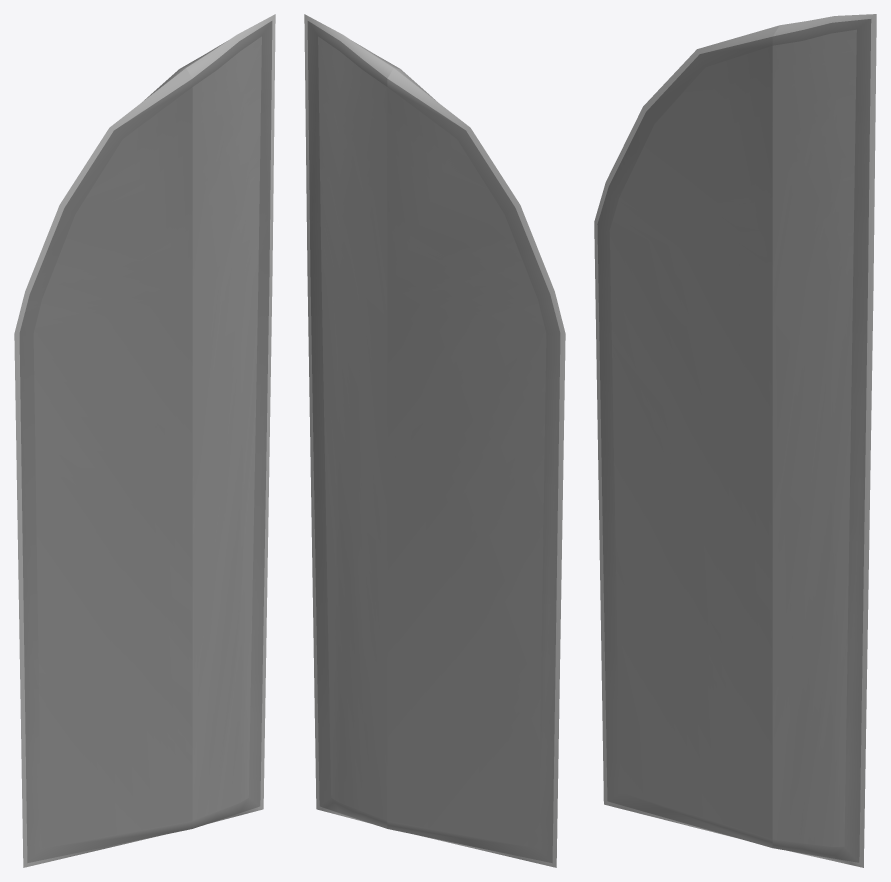
The model's file is stone_blade (14).glb.
The picture shows the model from 3 angles, left to right: view 1: azimuth 30°, elevation 25°; view 2: azimuth 150°, elevation 25°; view 3: azimuth 330°, elevation 25°; orthographic projection. The views are drawn at different scales.
Visible parts, largest first — view 1: stone_blade_unscratched.034; view 2: stone_blade_unscratched.034; view 3: stone_blade_unscratched.034.
Boxes of the visible parts, x1,y1,x2,y2 form: stone_blade_unscratched.034: (14, 14, 275, 867); stone_blade_unscratched.034: (304, 14, 565, 867); stone_blade_unscratched.034: (594, 14, 876, 867).
Size of the model in its own units: 4.15 by 12.06 by 0.3631.
Materials: 1 (1 with a texture image).
